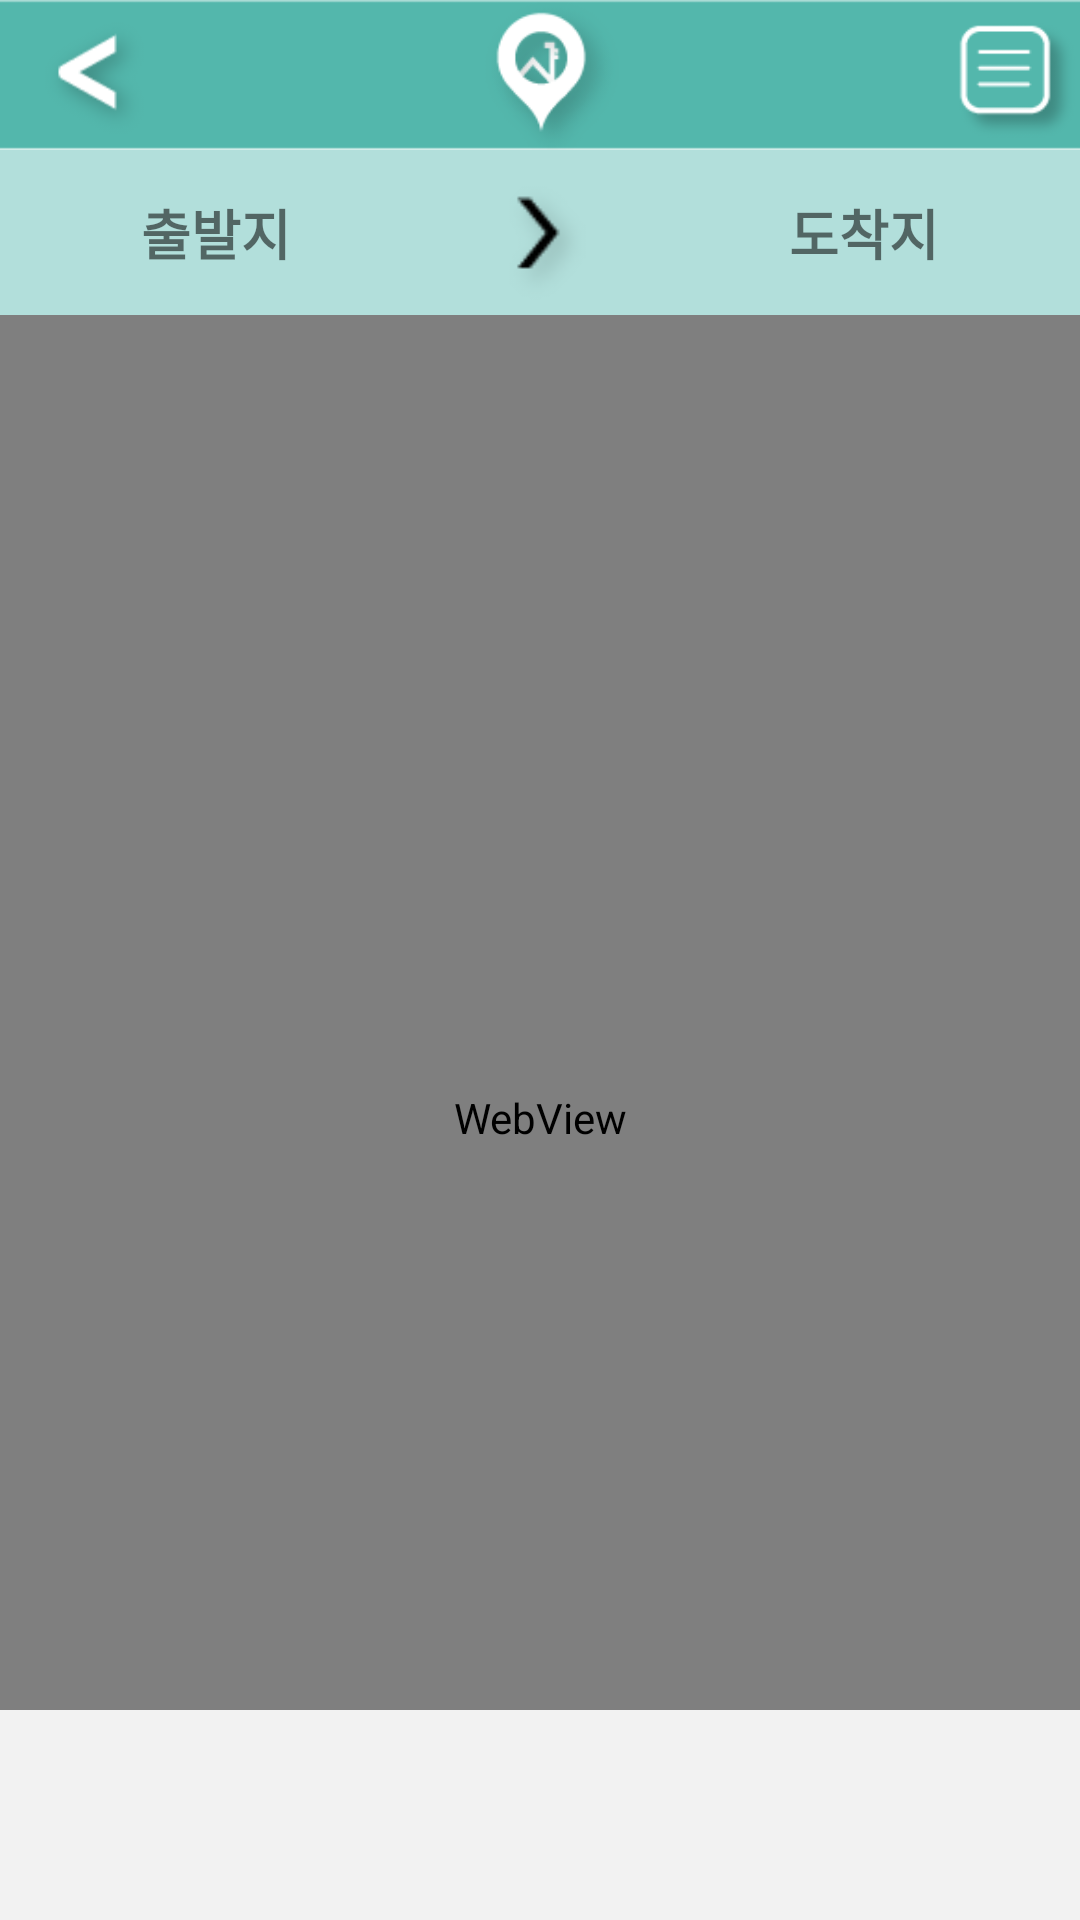

Icon click points for this 1080 × 1920 phone screenshot, format (x,y):
arrow forward: (538,232)
